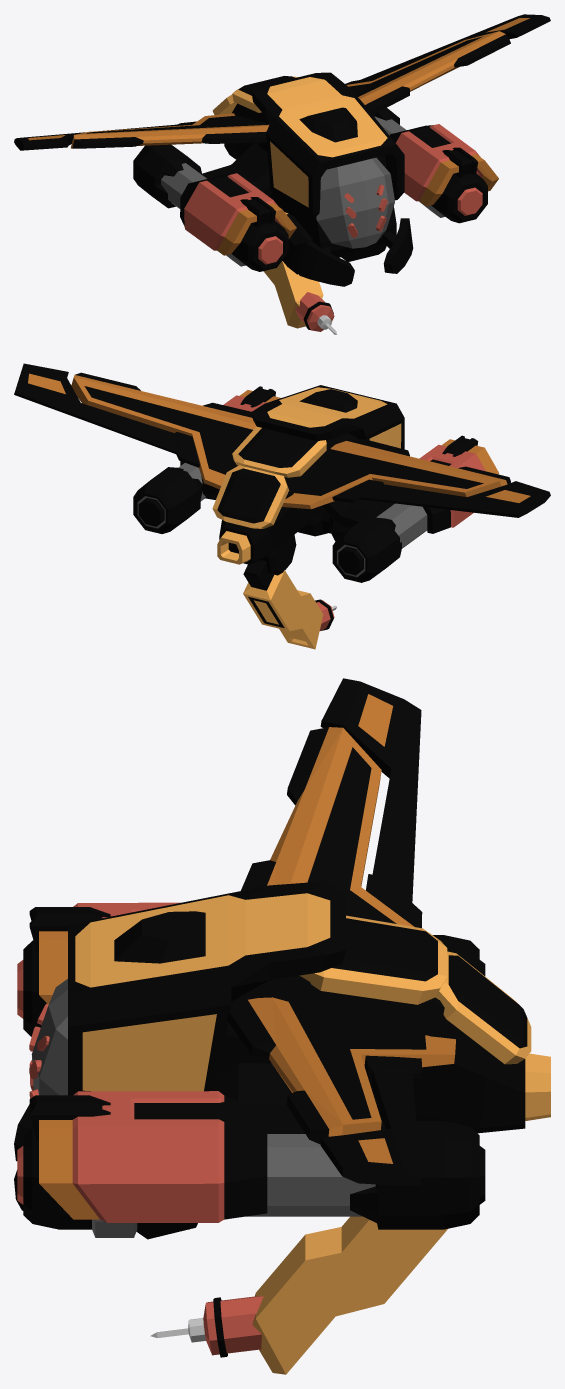
File: boss01.fbx
The picture shows the model from 3 angles, top to bottom: view 1: azimuth 30°, elevation 25°; view 2: azimuth 150°, elevation 25°; view 3: azimuth 270°, elevation 25°; orthographic projection. The views are drawn at different scales.
Parts seen in each view (by area): view 1: SM_Veh_Drone_Repair_01; view 2: SM_Veh_Drone_Repair_01; view 3: SM_Veh_Drone_Repair_01.
Boxes of the visible parts, x1,y1,x2,y2 form: SM_Veh_Drone_Repair_01: (14, 14, 550, 334); SM_Veh_Drone_Repair_01: (14, 363, 550, 649); SM_Veh_Drone_Repair_01: (14, 678, 550, 1374).
Size of the model in its own units: 1962 by 832 by 904.
